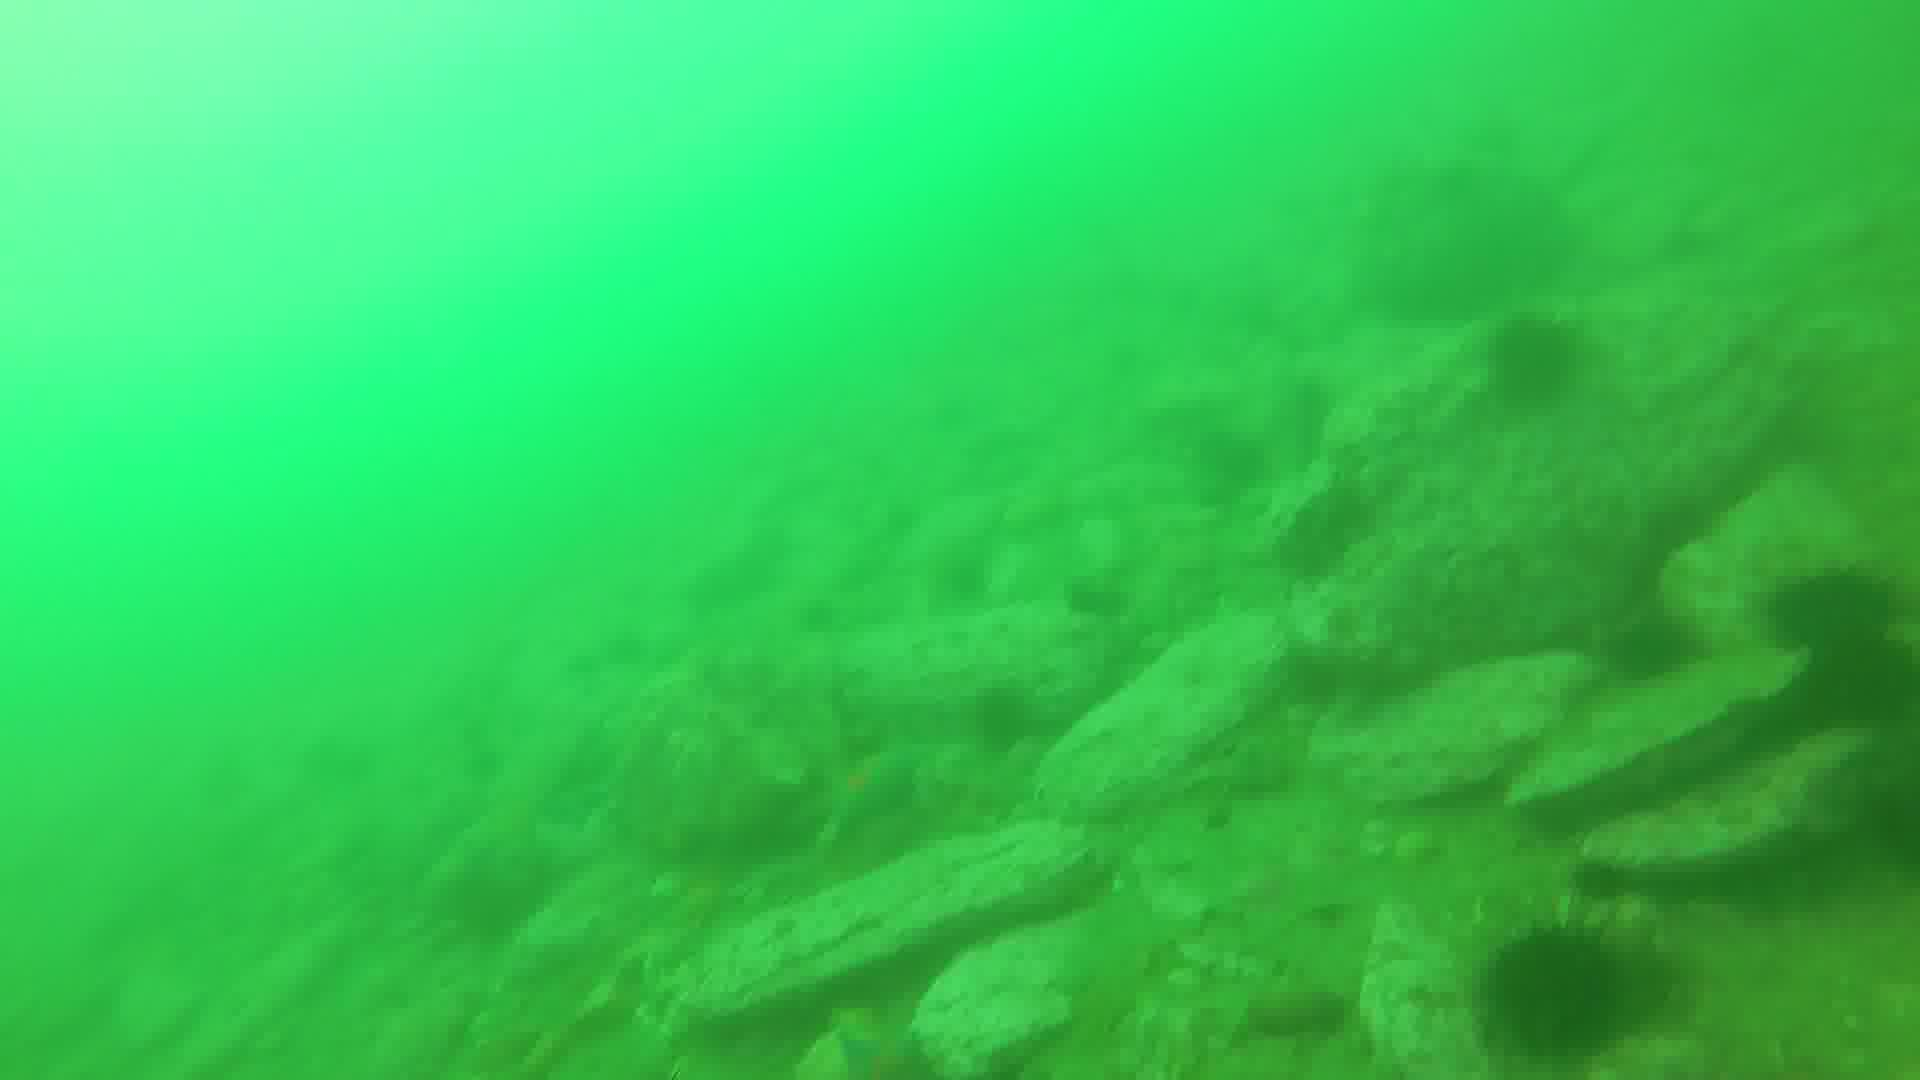echinus: (1484, 923, 1633, 1067), (1811, 642, 1920, 742), (1480, 320, 1584, 413), (1782, 567, 1900, 647)
